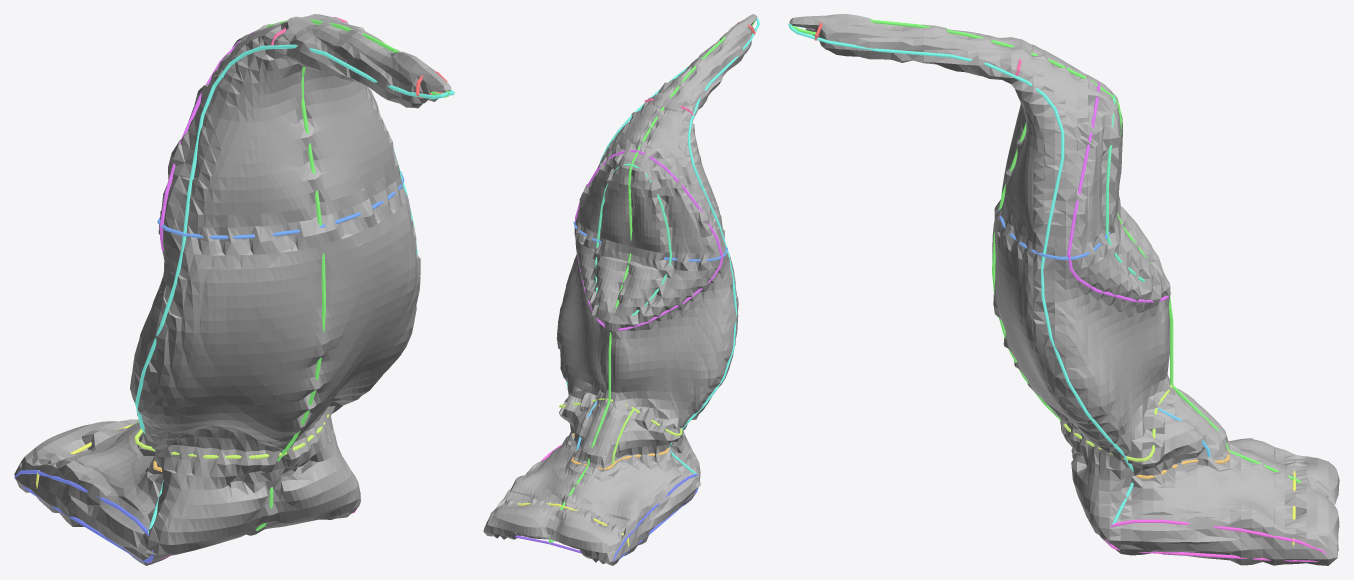
The model's file is t2f_vacuum.gltf.
The picture shows the model from 3 angles, left to right: view 1: azimuth 30°, elevation 25°; view 2: azimuth 150°, elevation 25°; view 3: azimuth 270°, elevation 25°; orthographic projection. The views are drawn at different scales.
Size of the model in its own units: 0.317 by 0.6928 by 0.6768.
